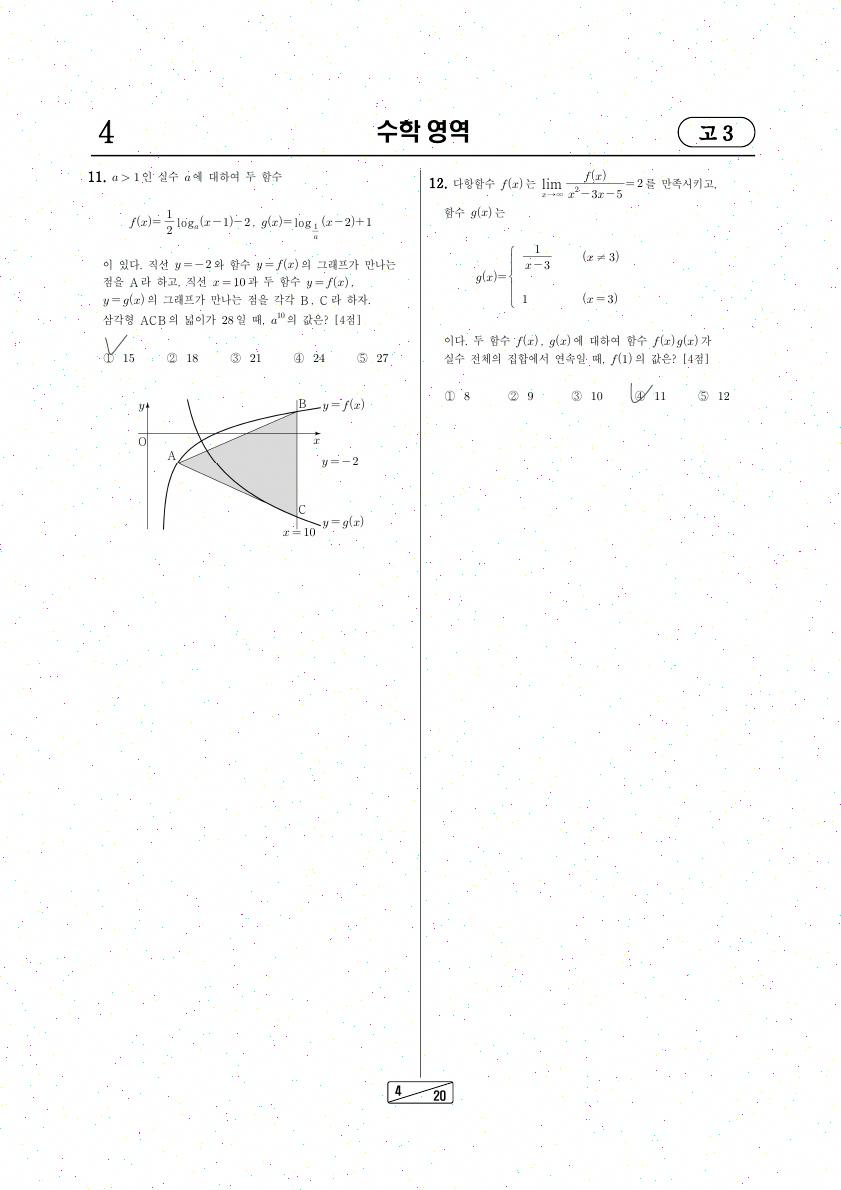question: (78, 161, 409, 560), (421, 162, 749, 427)
